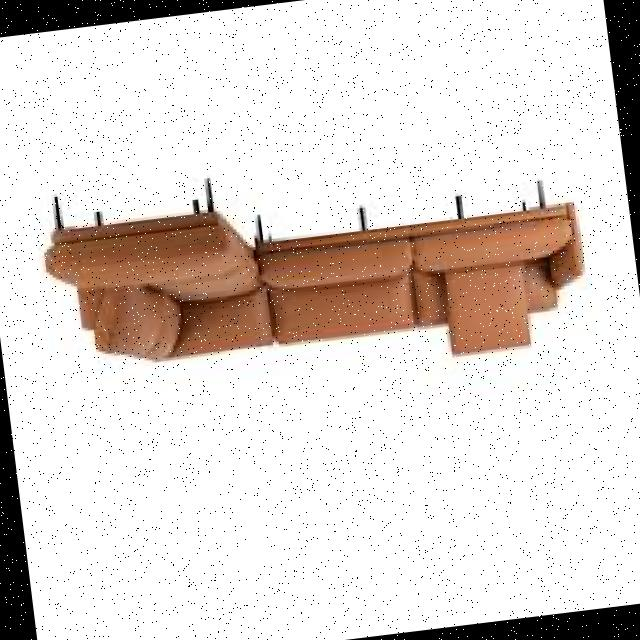Sofa: (8, 112, 607, 430)
